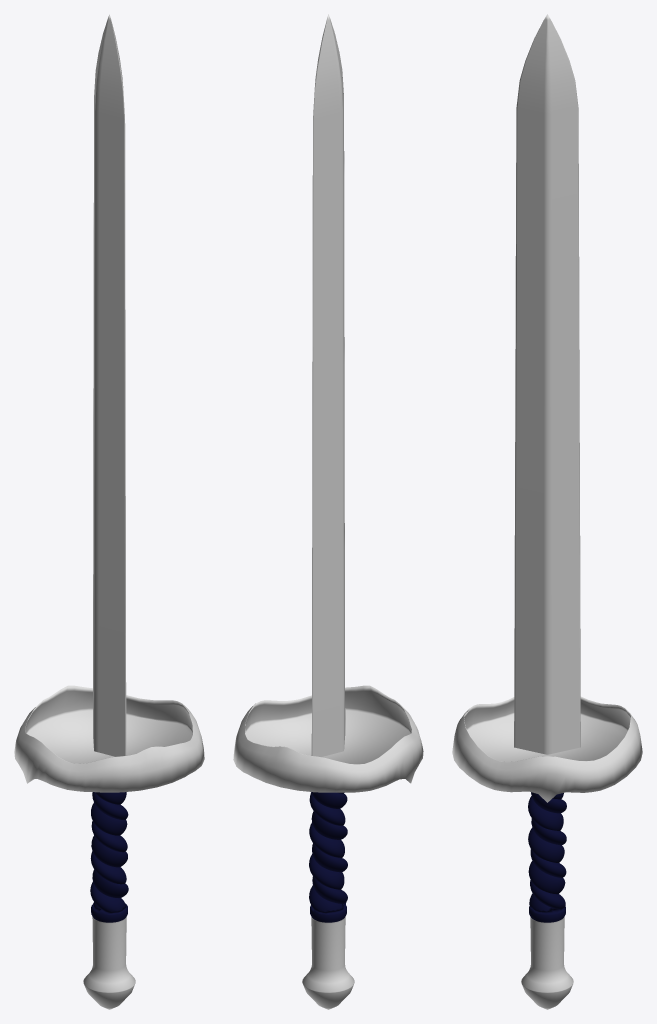
3 renders of one model, left to right at view 1: azimuth 30°, elevation 25°; view 2: azimuth 150°, elevation 25°; view 3: azimuth 270°, elevation 25°, orthographic.
Visible parts, largest first — view 1: base; view 2: base; view 3: base.
Boxes of the visible parts, left/top/right/bottom form: base: left=14, top=14, right=204, bottom=1009; base: left=233, top=14, right=423, bottom=1009; base: left=452, top=14, right=642, bottom=1009.
Size of the model in its own units: 0.1718 by 0.9907 by 0.1718.
